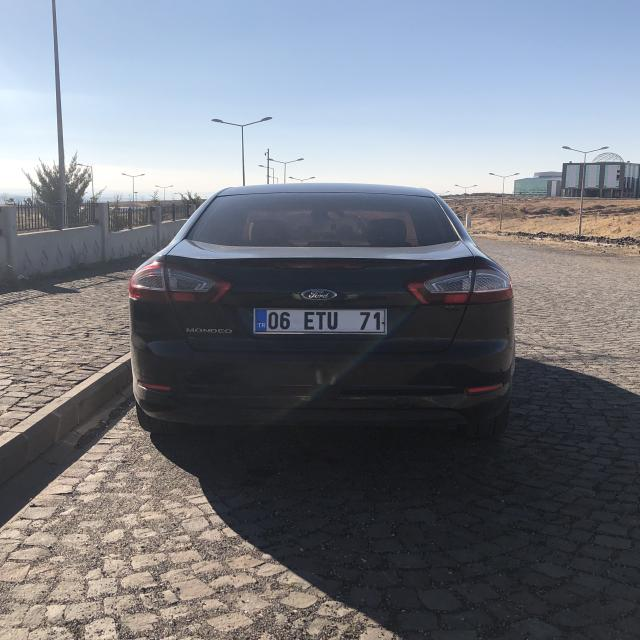license_plate: (254, 308, 385, 335)
